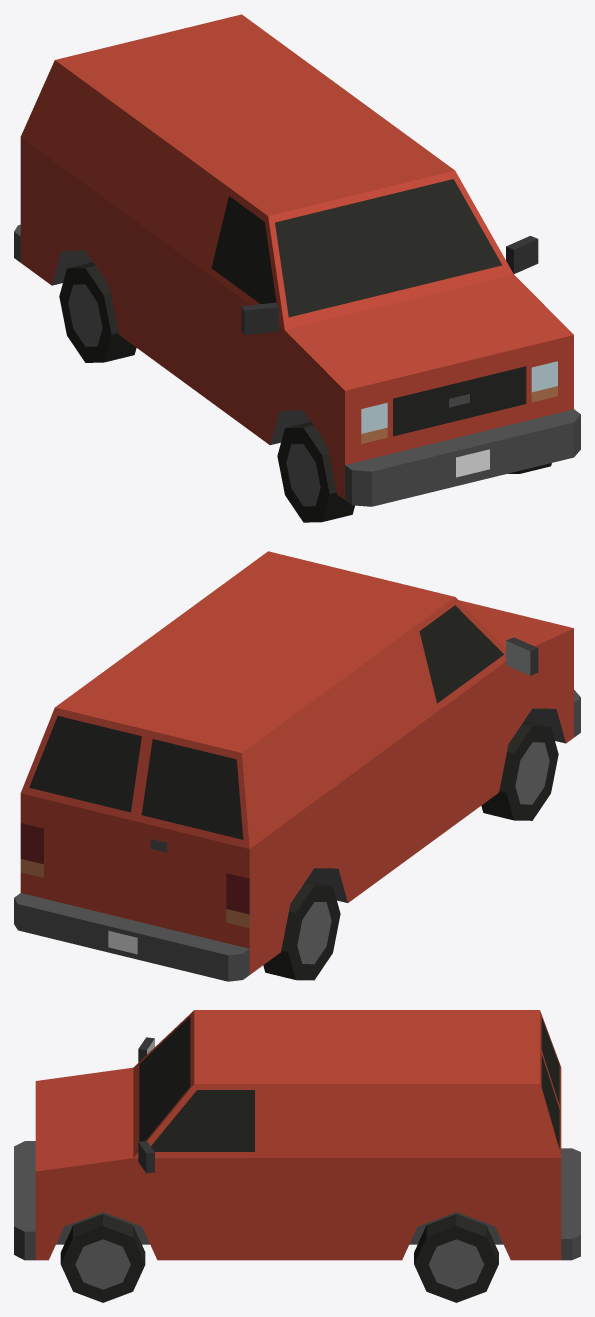
Rendered from Veh_Van_01_Red.obj.
The picture shows the model from 3 angles, top to bottom: view 1: azimuth 30°, elevation 25°; view 2: azimuth 150°, elevation 25°; view 3: azimuth 270°, elevation 25°; orthographic projection. The views are drawn at different scales.
Bounding box in the file's own units: 1.38 × 1.16 × 2.84.
